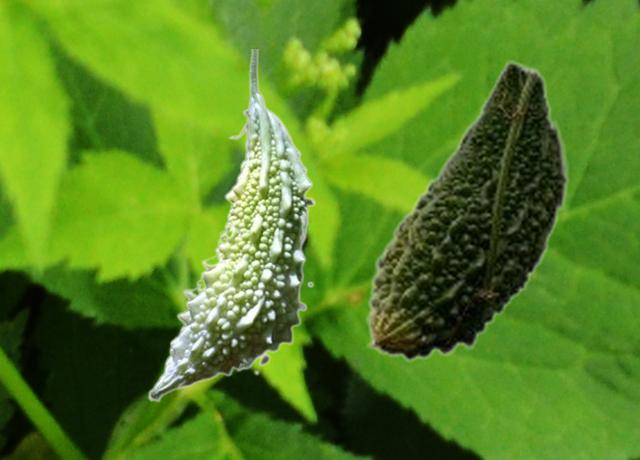ampalaya: (366, 60, 569, 361), (147, 49, 315, 401)
